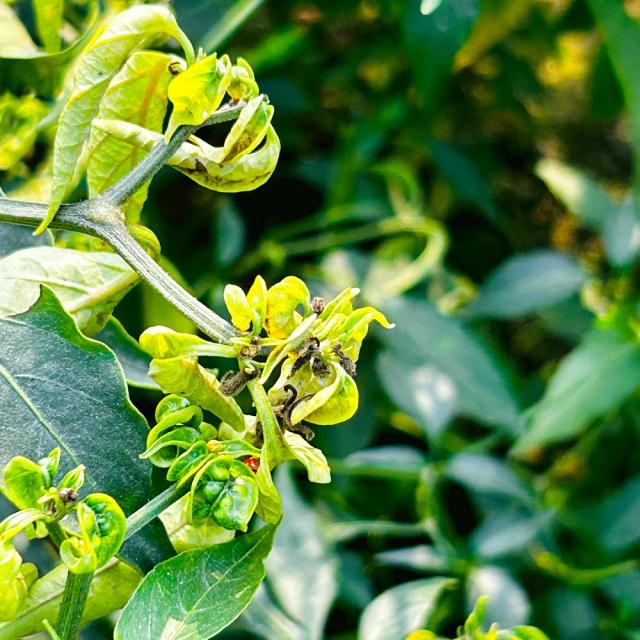Chilli_Leaf_Curl: (1, 2, 394, 638), (4, 2, 280, 344), (136, 273, 395, 546), (0, 447, 133, 637), (112, 514, 282, 639)
